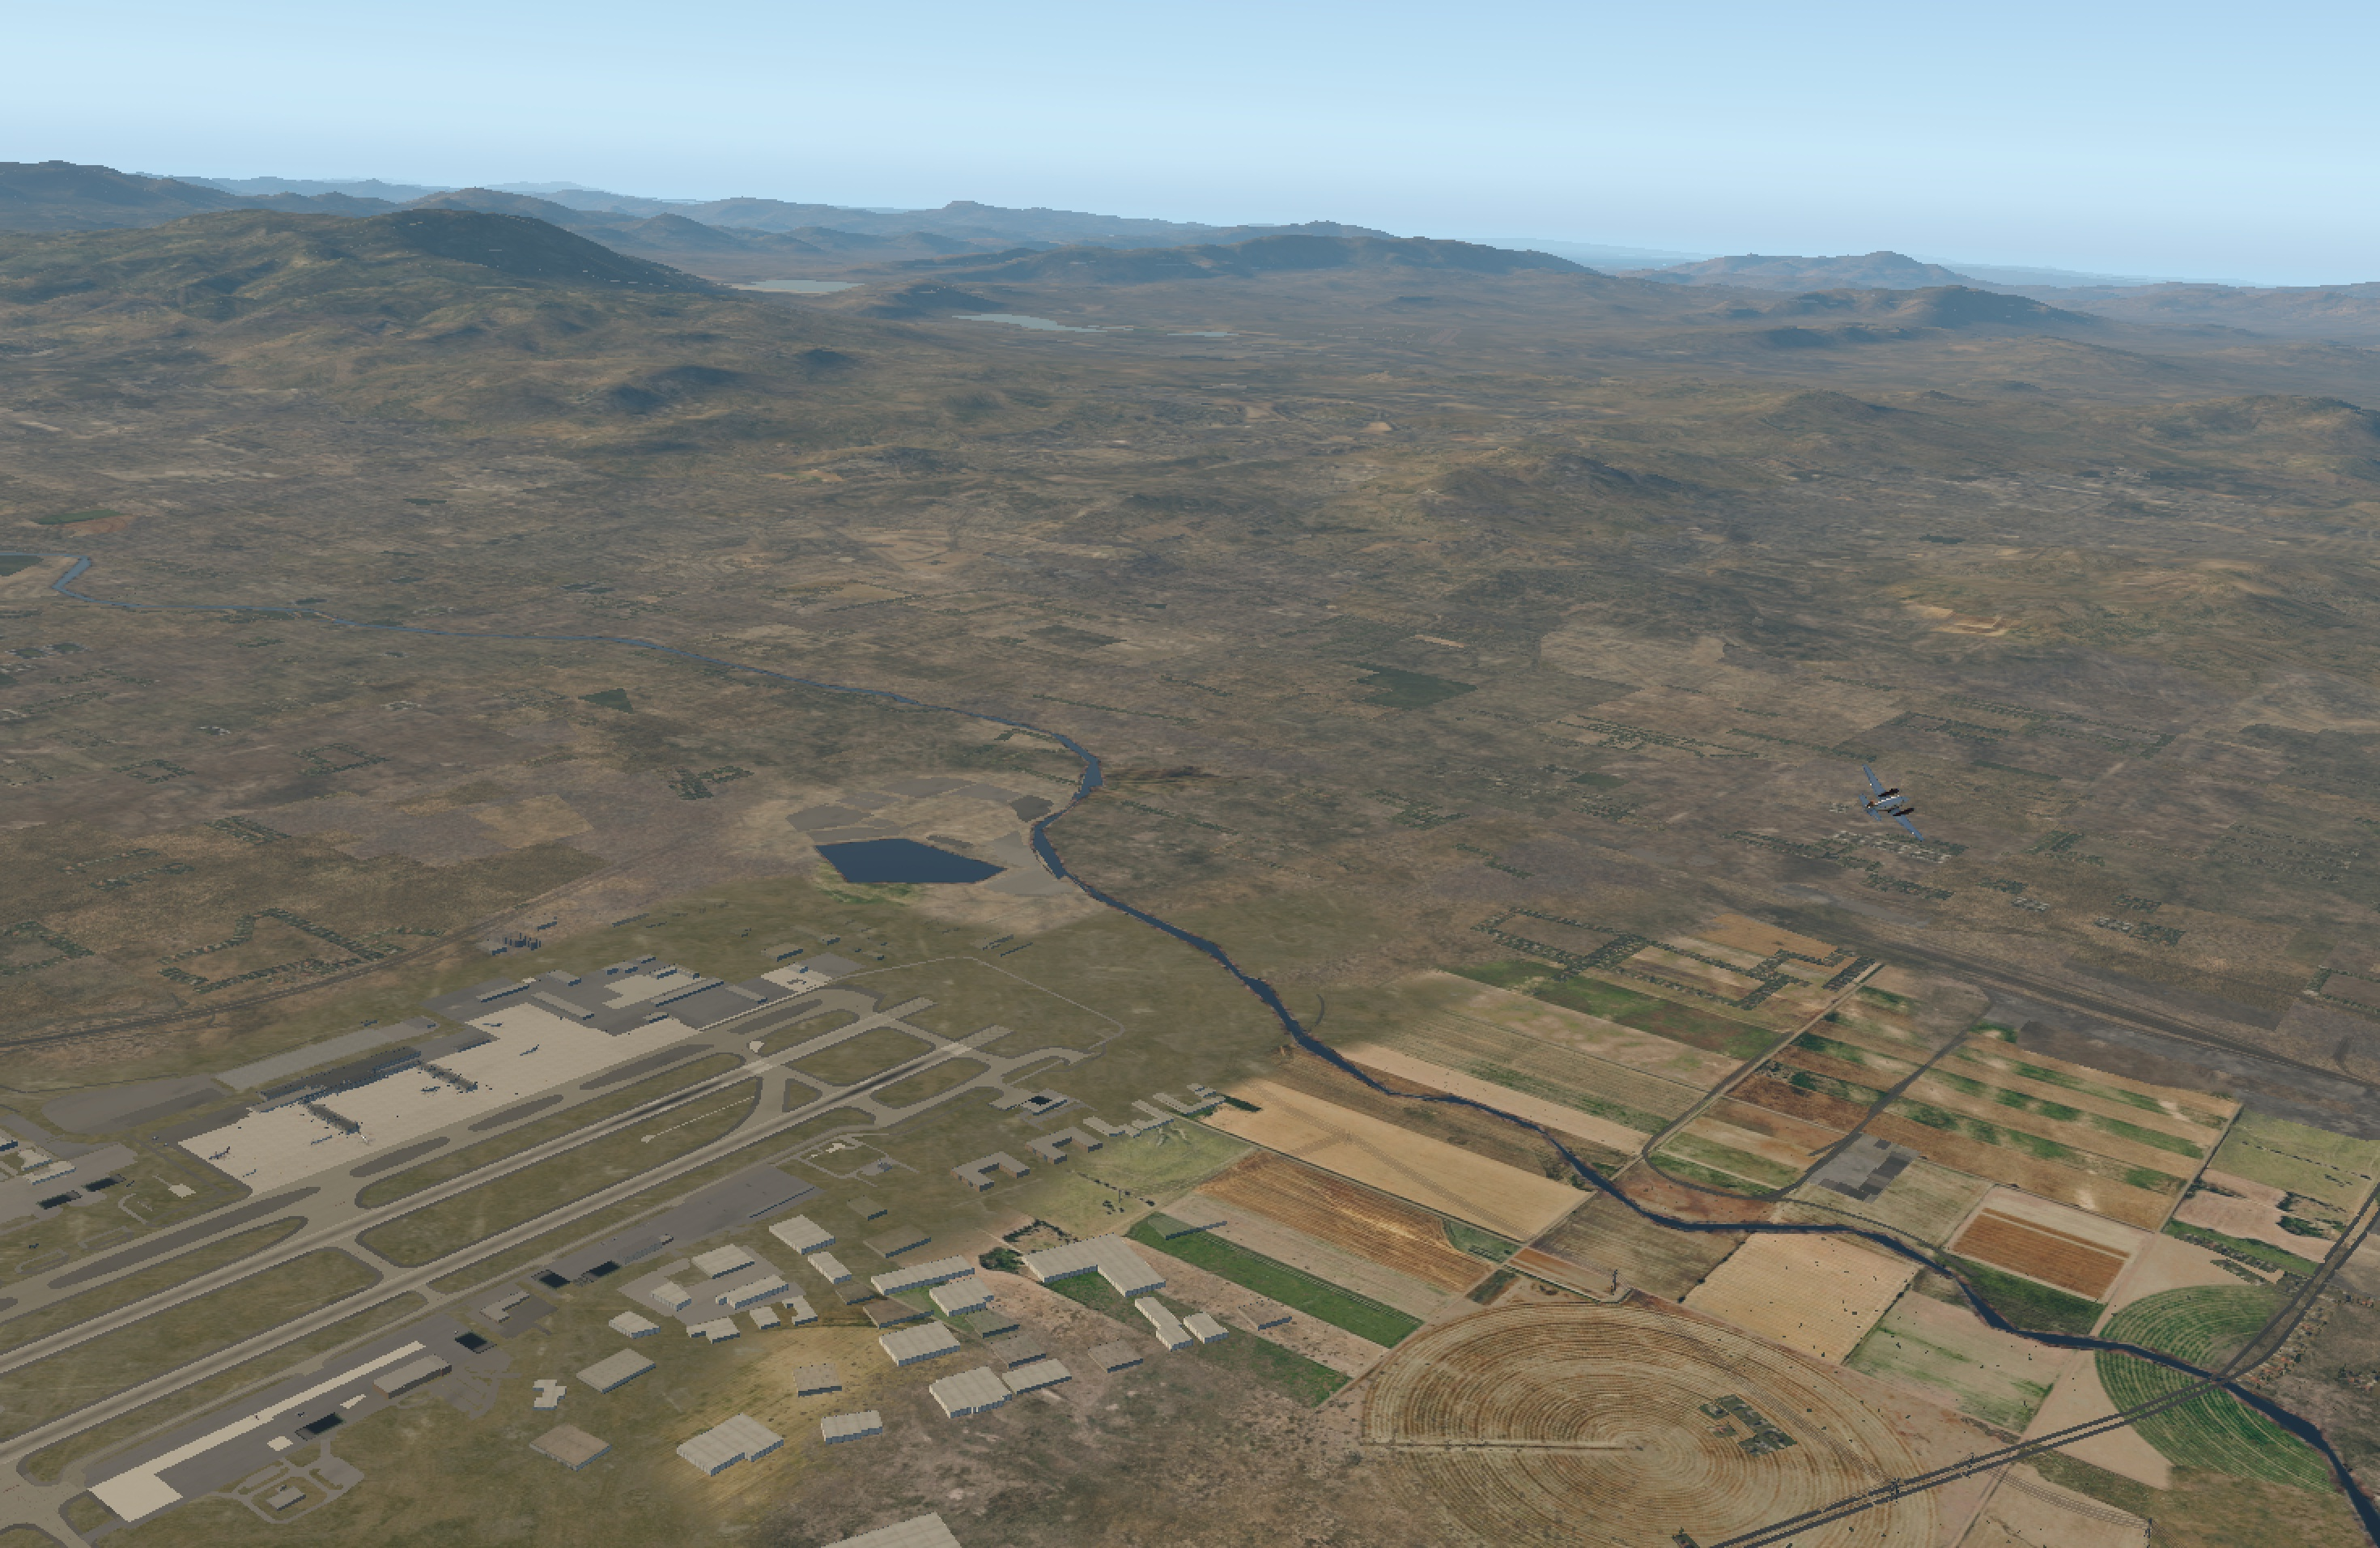aircraft: (1844, 788, 1939, 823)
